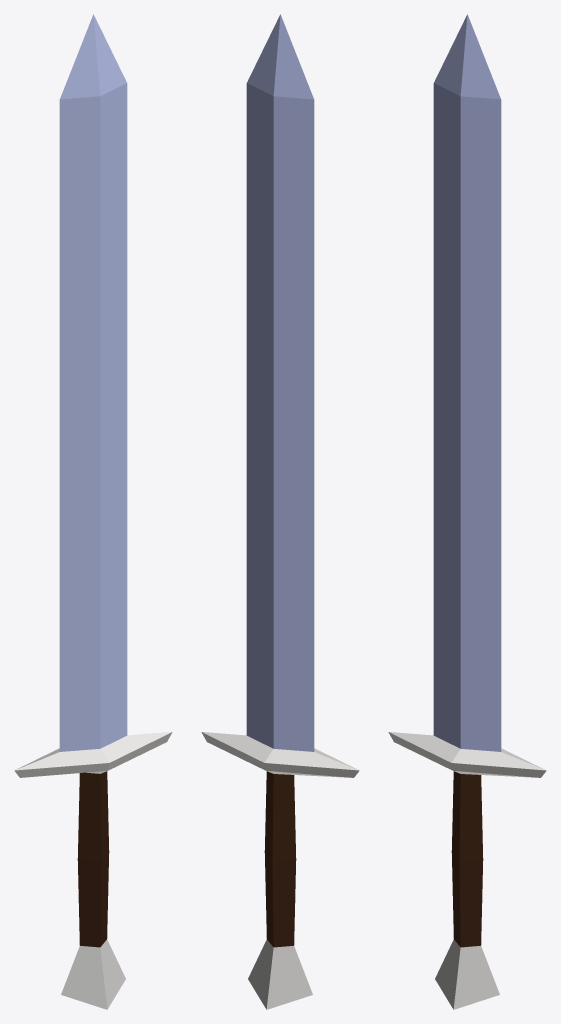
File: Sword3star.fbx
3 renders of one model, left to right at view 1: azimuth 30°, elevation 25°; view 2: azimuth 150°, elevation 25°; view 3: azimuth 330°, elevation 25°, orthographic.
Visible parts, largest first — view 1: Cylinder; view 2: Cylinder; view 3: Cylinder.
Boxes of the visible parts, x1,y1,x2,y2 form: Cylinder: (14,14,172,1009); Cylinder: (201,14,359,1009); Cylinder: (388,14,546,1009).
Size of the model in its own units: 233 by 1383 by 81.62.
